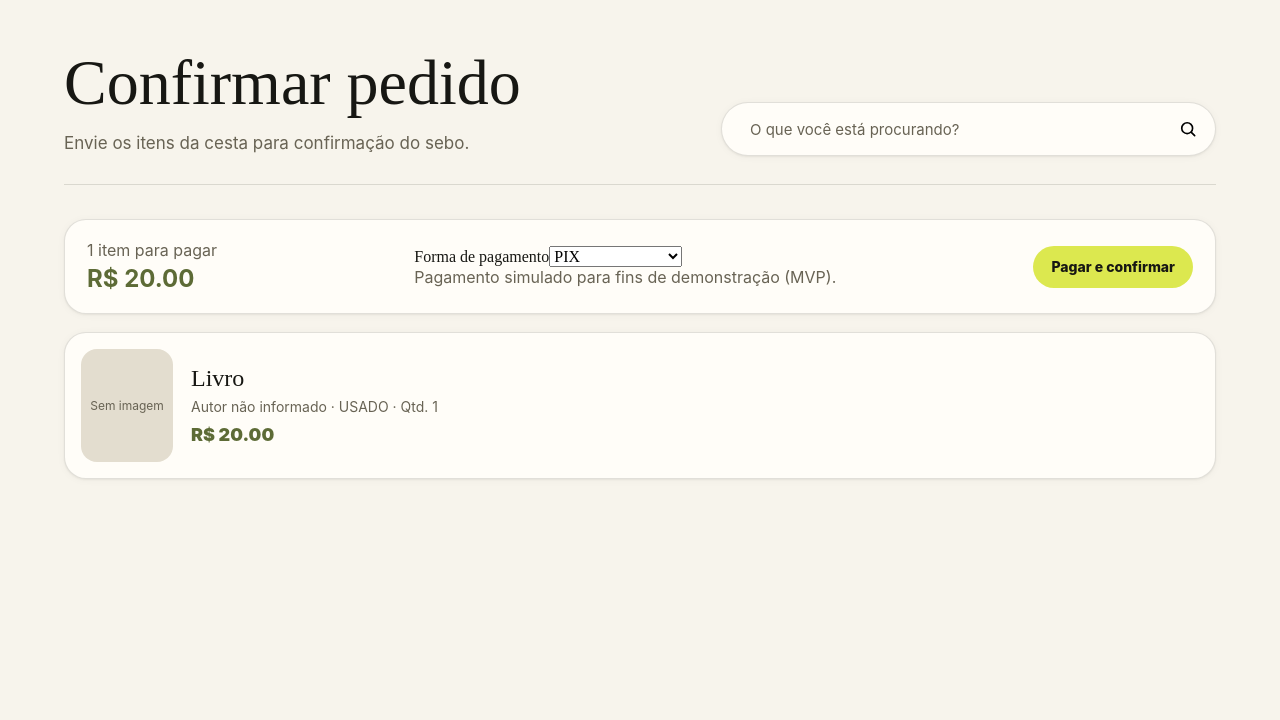
Test: checkout com perfil incompleto › trata o 422, destaca campos e direciona para completar o perfil sem simular pedido
Click the button "Pagar e confirmar": [1113, 267] box [1034,246,1193,288]
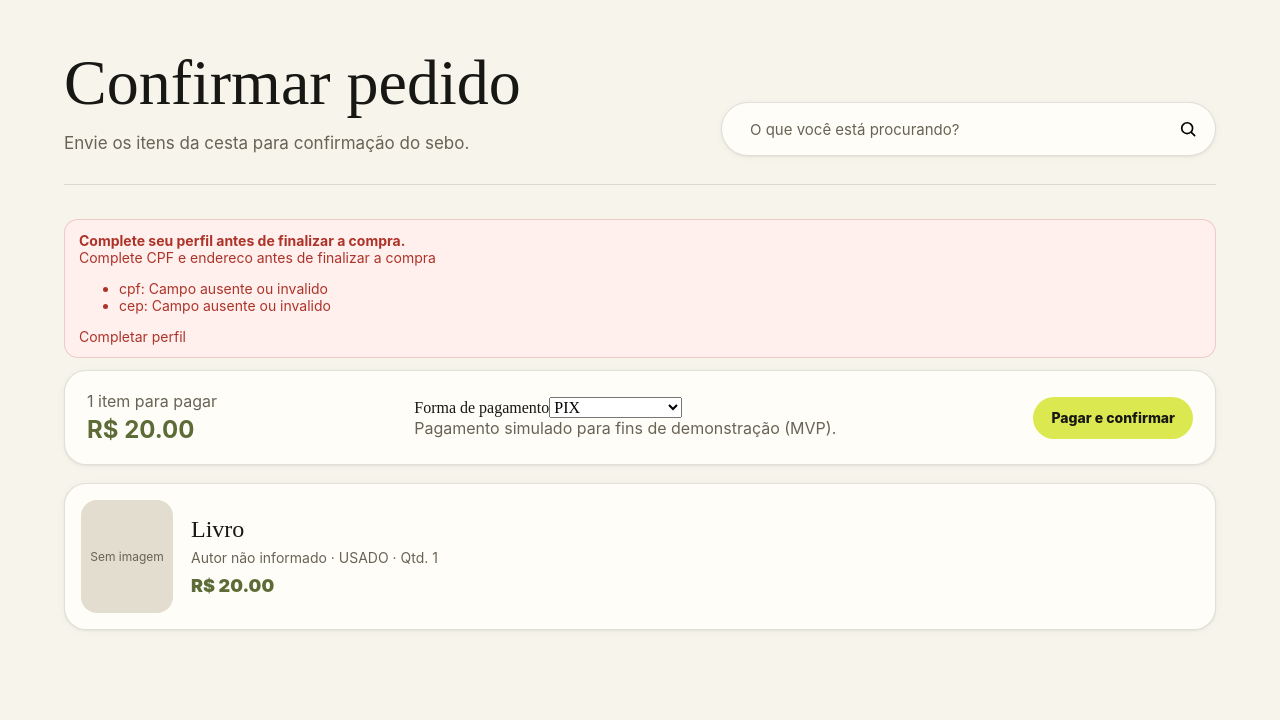
expect the message shows "Complete seu perfil antes de finalizar a compra.": met, box [79,232,405,249]
expect the message shows "cpf: Campo ausente ou invalido": met, box [64,219,1216,358]
expect the message shows "cep: Campo ausente ou invalido": met, box [64,219,1216,358]
